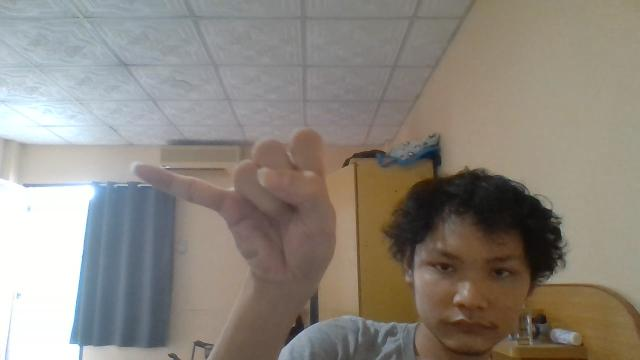Right: (132, 121, 340, 284)
